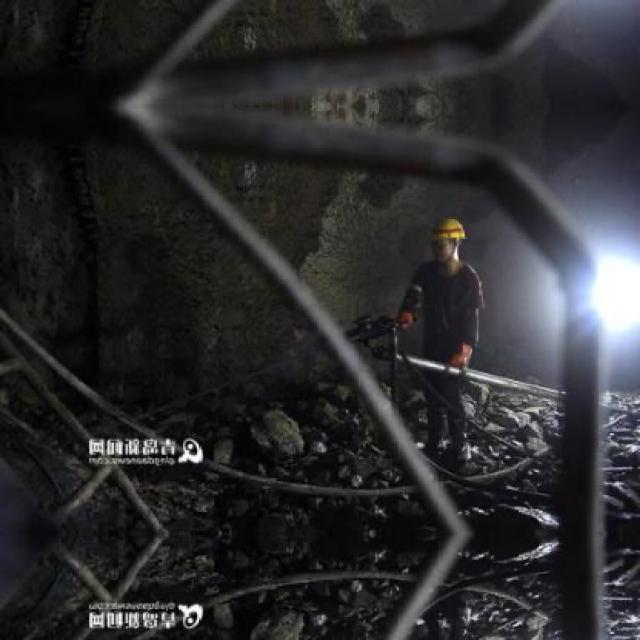con casco: (415, 210, 499, 286)
